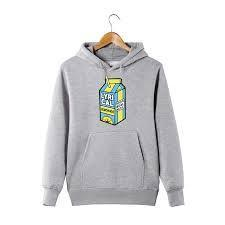sweater: (29, 37, 195, 213)
